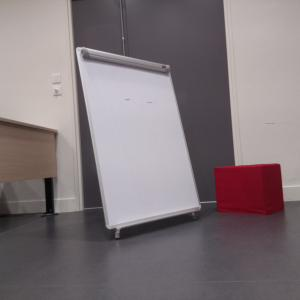big: (77, 46, 203, 235)
medium: (214, 166, 282, 216)
